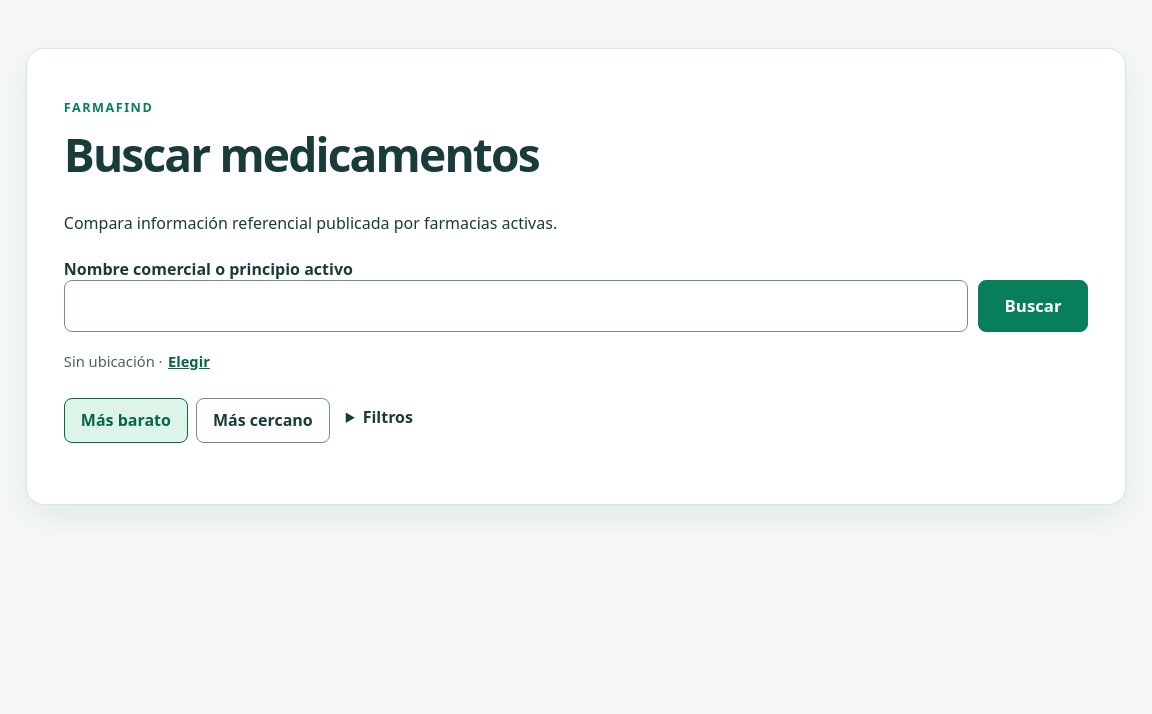
Test: F03.2 · aviso y ayuda en la búsqueda (T010, FR-005, FR-013) › APROXIMADA: muestra el aviso como estado accesible, junto a los resultados
In the dropdown labelled "Nombre comercial o principio activo": (516, 306) [64, 280, 968, 332], type "paracetamol 750 mg"
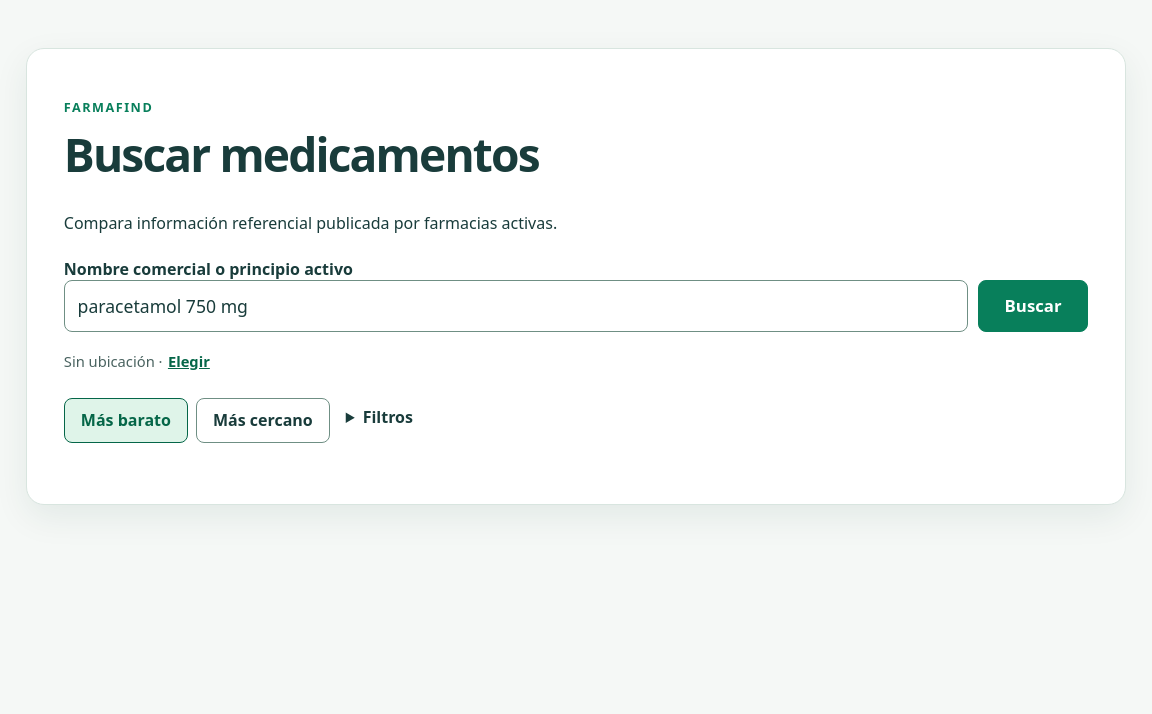
Click the button "Buscar": click(1033, 306) [978, 280, 1088, 332]
(page scrolled)
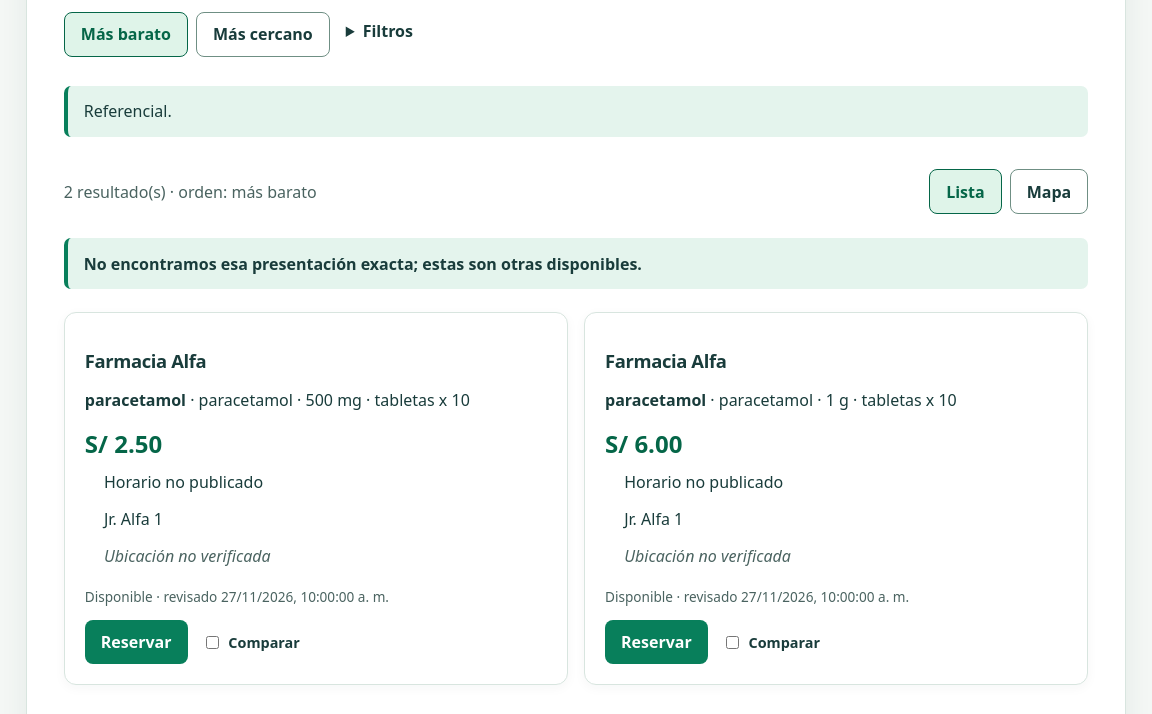
Expected: the text "2 resultado(s) · orden: más barato" is shown, [64, 180, 317, 202]
Expected: the 1st heading "Farmacia Alfa" is shown, [85, 348, 206, 373]
